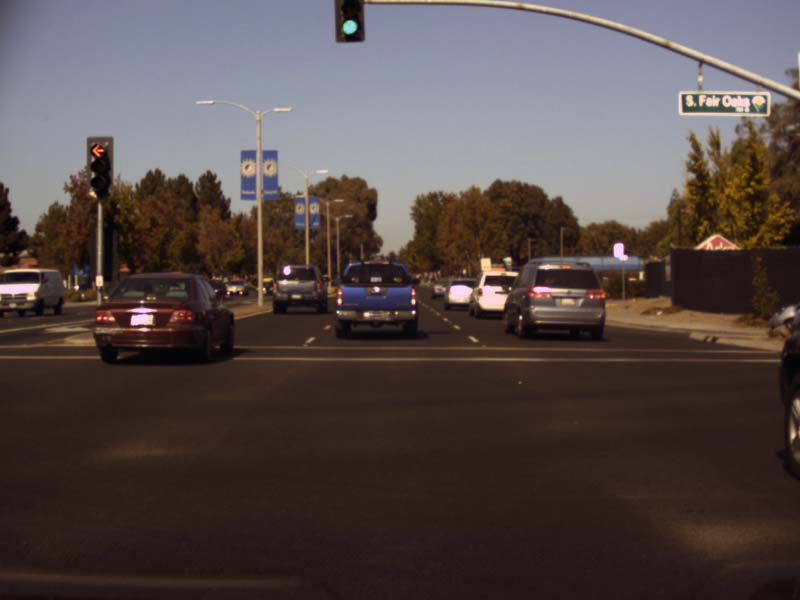Red: (87, 136, 113, 194)
